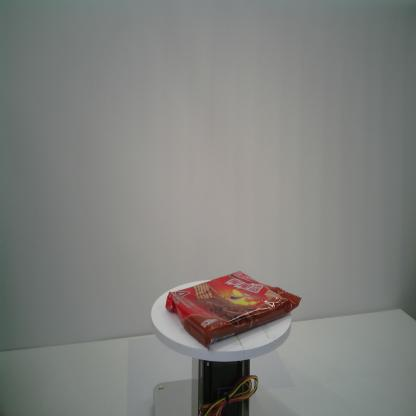Dessert: (164, 269, 302, 351)
